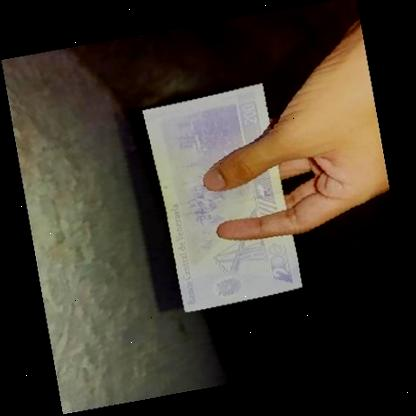two_hundred-back-vef: (140, 83, 304, 314)
